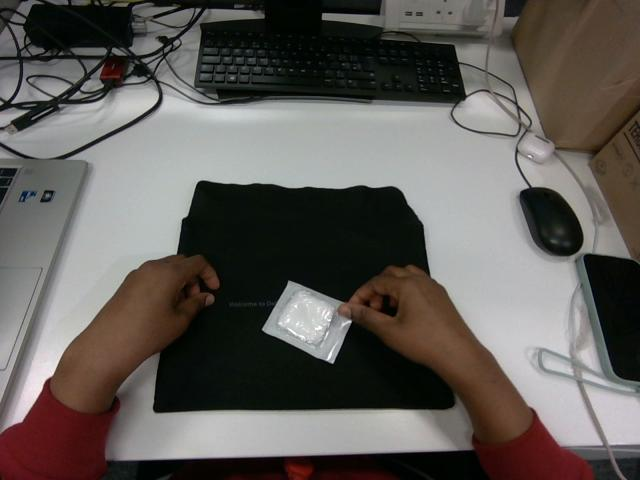gauze: (262, 281, 350, 363)
